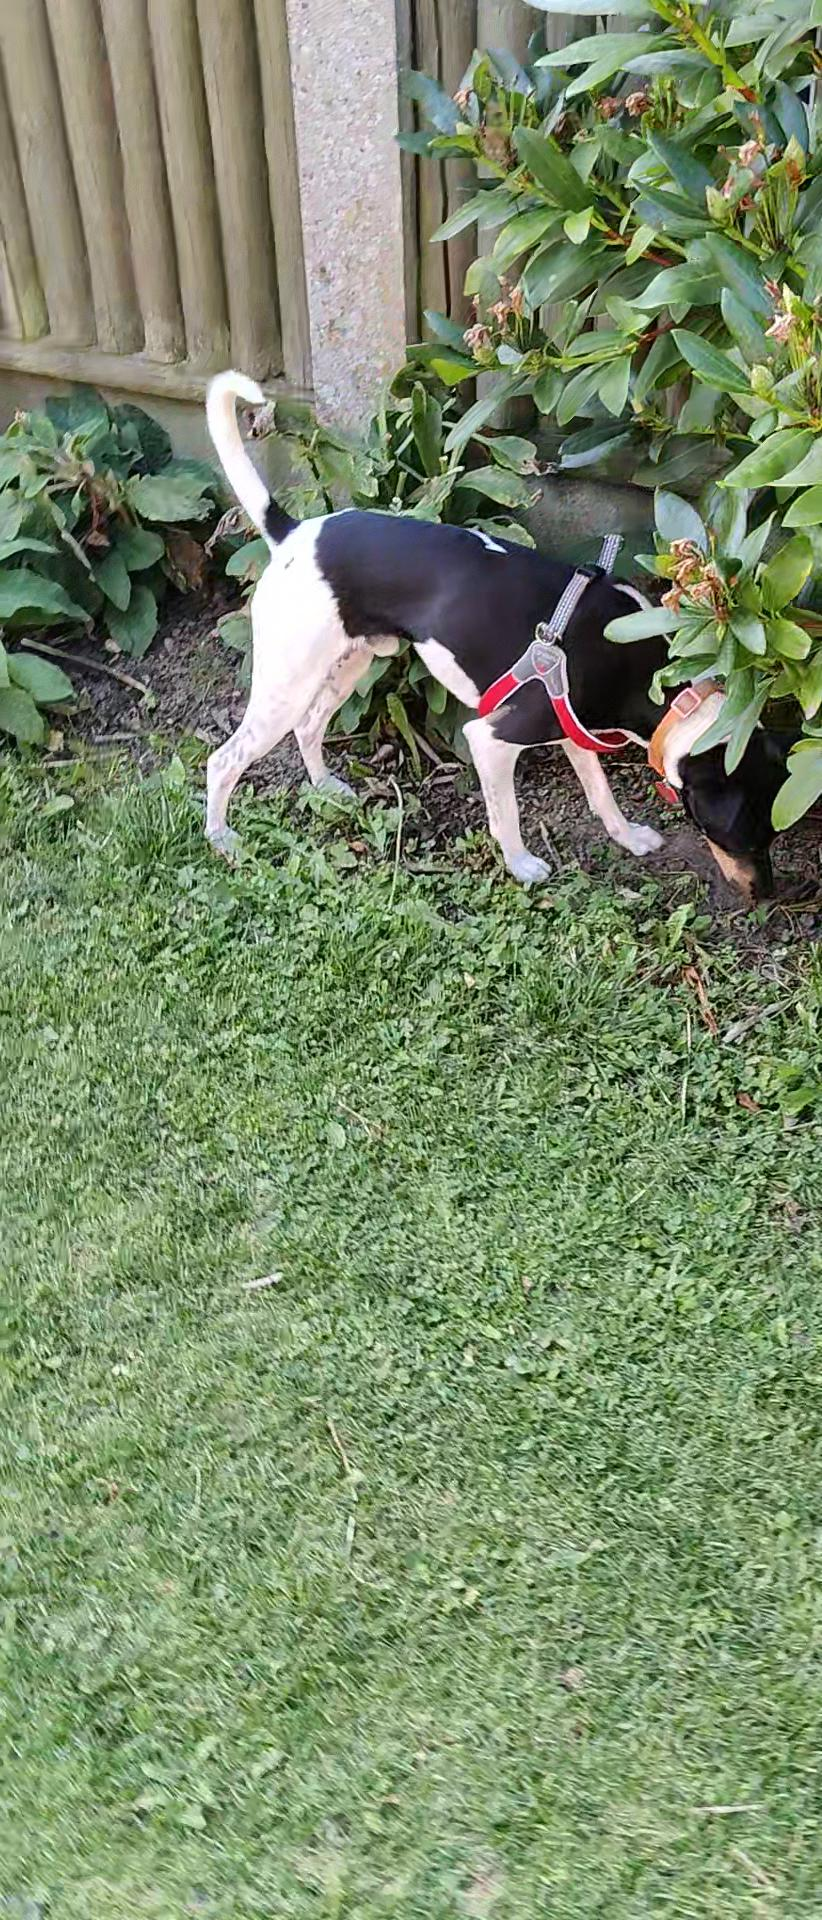Dog: (178, 362, 796, 902)
